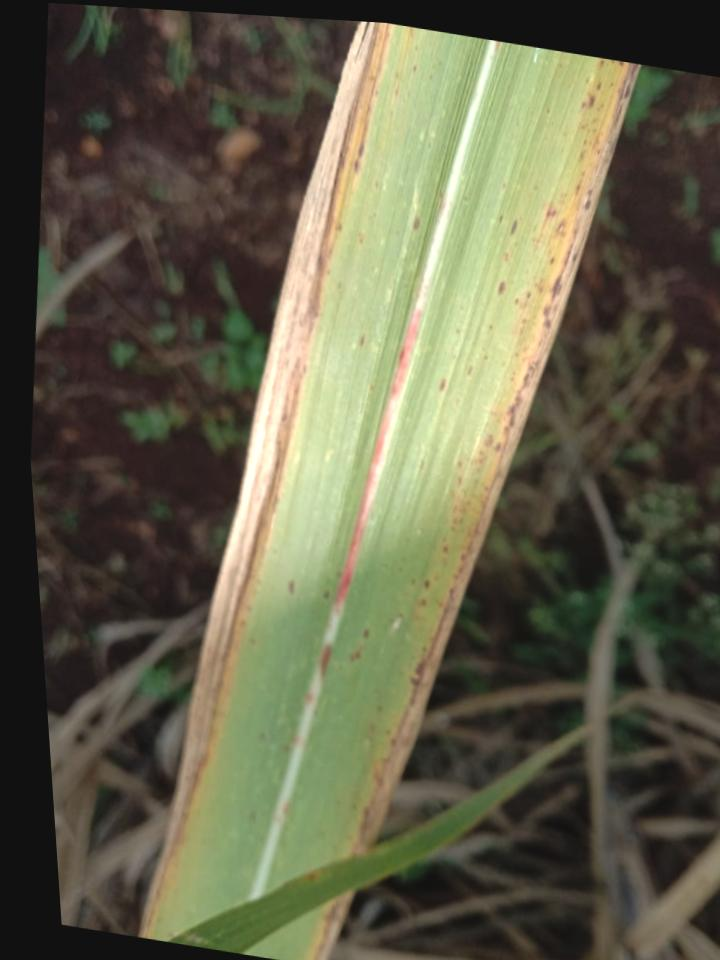RedRot: (334, 307, 421, 617), (320, 644, 332, 677), (281, 799, 290, 815), (306, 694, 314, 703), (295, 738, 303, 746)
Rust: (409, 588, 455, 709), (506, 385, 526, 427), (494, 426, 512, 465), (539, 204, 558, 239), (524, 361, 538, 387), (452, 504, 466, 526), (552, 275, 562, 300), (542, 303, 551, 329), (581, 95, 595, 109), (351, 645, 363, 661), (474, 449, 485, 466), (478, 494, 489, 511), (453, 563, 464, 580), (556, 219, 566, 236), (510, 218, 518, 236), (585, 189, 592, 209), (519, 318, 527, 335), (535, 279, 544, 294), (484, 434, 494, 447), (439, 379, 447, 395), (358, 143, 365, 158), (498, 282, 506, 295), (467, 540, 475, 553), (334, 222, 344, 232), (440, 545, 450, 555), (473, 522, 480, 536), (368, 724, 375, 738), (532, 238, 539, 251), (354, 158, 359, 174), (416, 599, 426, 607), (414, 218, 420, 230), (362, 629, 370, 638), (579, 150, 586, 160), (424, 579, 430, 590), (575, 183, 580, 196), (504, 254, 510, 264), (598, 60, 605, 68), (483, 485, 490, 493), (451, 489, 456, 500), (467, 366, 473, 375), (596, 82, 602, 91), (460, 554, 466, 563), (457, 476, 462, 486), (538, 337, 543, 347), (619, 62, 625, 69), (375, 181, 379, 191), (499, 214, 503, 224), (550, 256, 555, 264), (359, 238, 363, 247), (526, 292, 531, 299), (489, 324, 494, 331), (458, 461, 462, 468), (515, 298, 519, 305), (434, 575, 439, 580), (546, 108, 550, 114), (584, 139, 587, 145), (582, 125, 586, 129), (581, 173, 585, 177), (597, 150, 600, 155), (611, 61, 615, 64), (611, 82, 613, 87)
Yellow: (141, 22, 393, 939), (346, 61, 634, 859), (307, 892, 349, 960)
